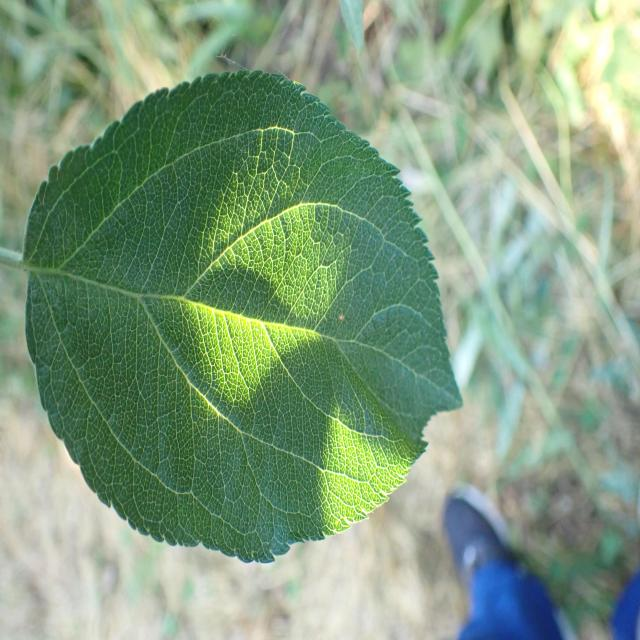healthy: (22, 70, 464, 563)
